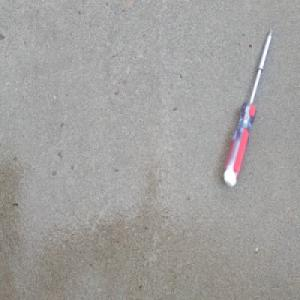Screwdriver: (223, 25, 274, 189)
